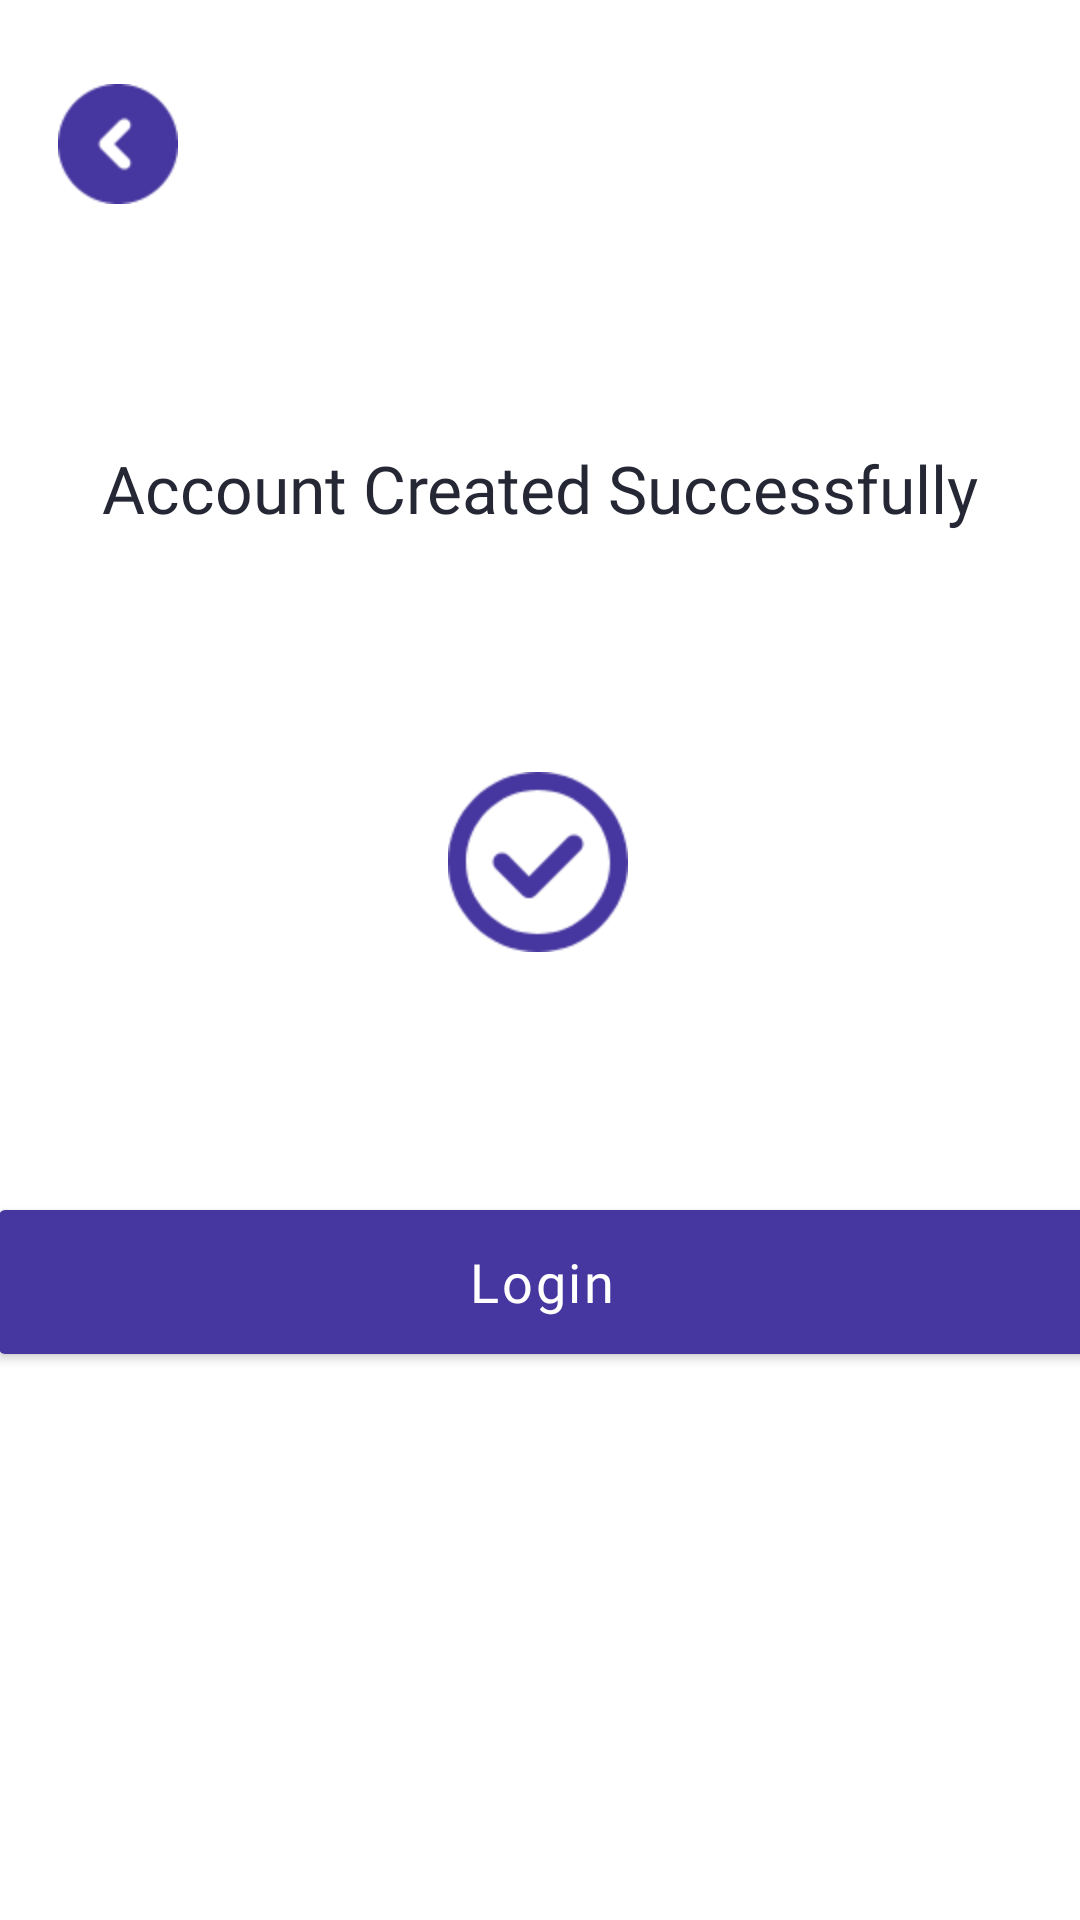

Screen size 1080 x 1920. Icon name, then its center in pixels as [x,y]:
back: [118,144]
checkicon: [538,862]
